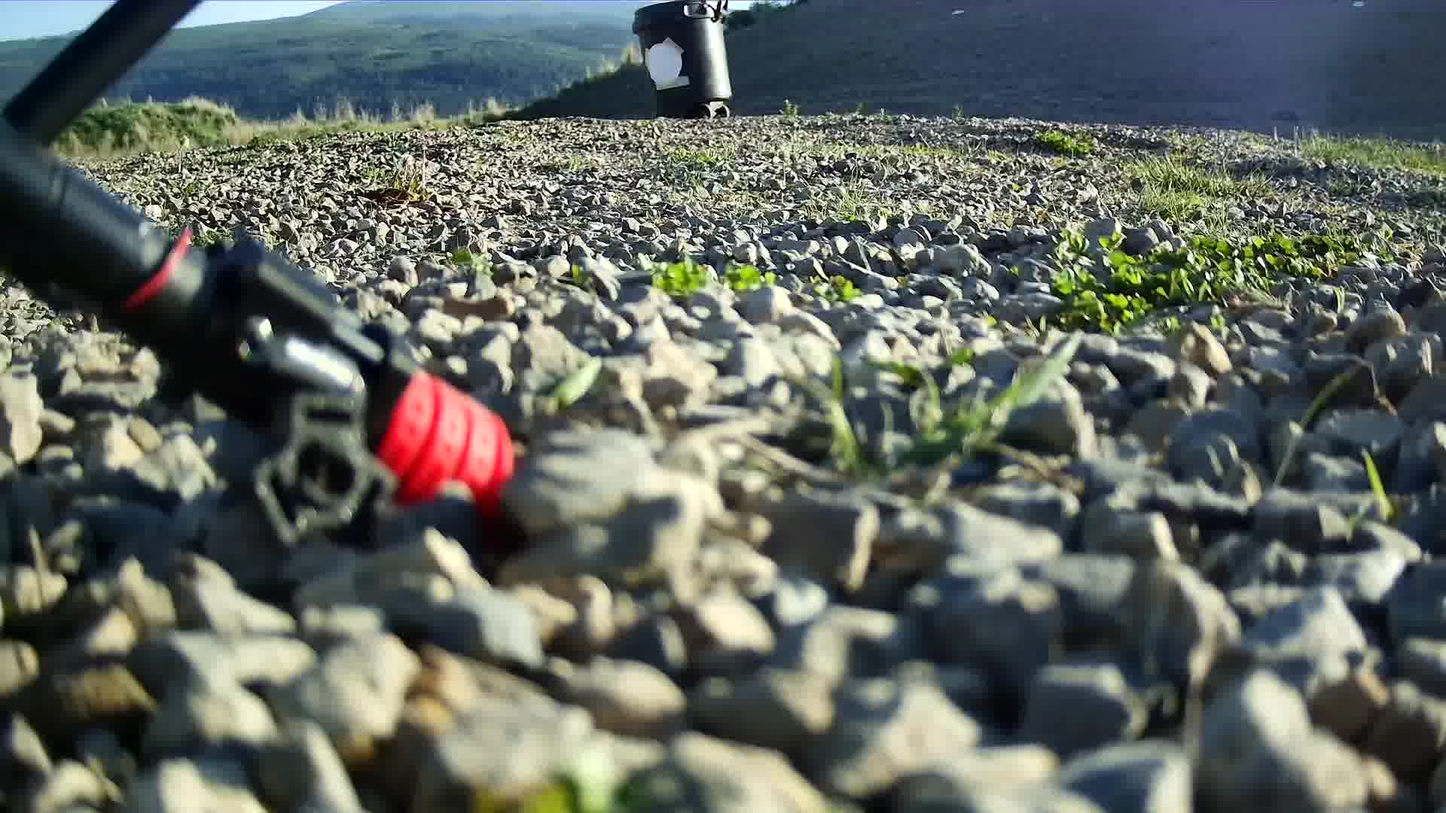Target: (648, 41, 681, 84)
